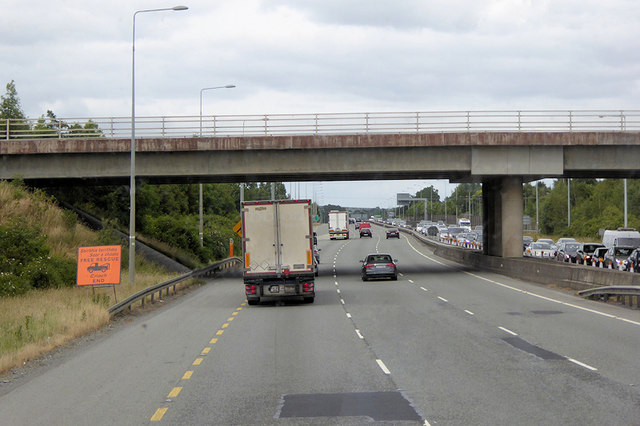bridge: (1, 109, 640, 183)
